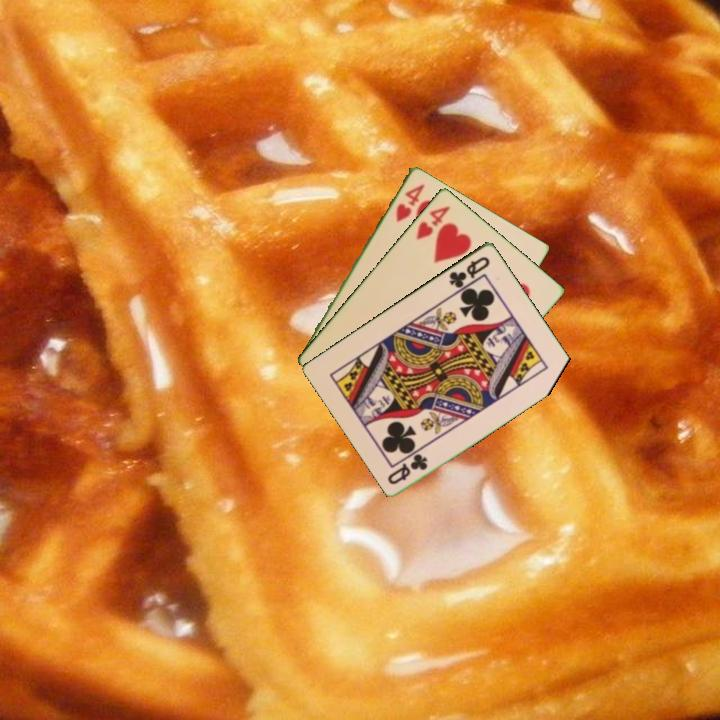4h: (412, 202, 453, 243), (392, 179, 428, 225)
Qc: (445, 252, 493, 291), (384, 450, 431, 487)
